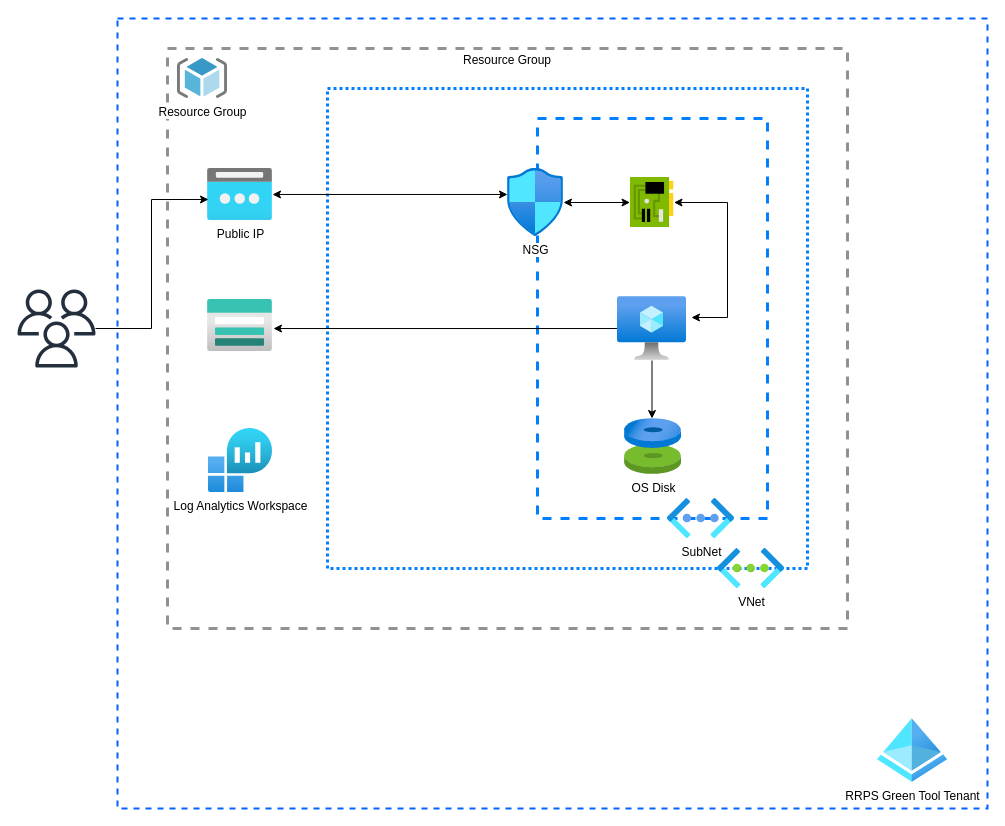
Image size: 1005x826. Some labels were removed from this diagram. The centre of each missing label's shape, as x and y in pixels:
"Azure VM" belongs at point 651,328.
"NIC" belongs at point 652,202.
"RRPS Users" belongs at point 56,328.
"Storage Account" belongs at point 239,325.
